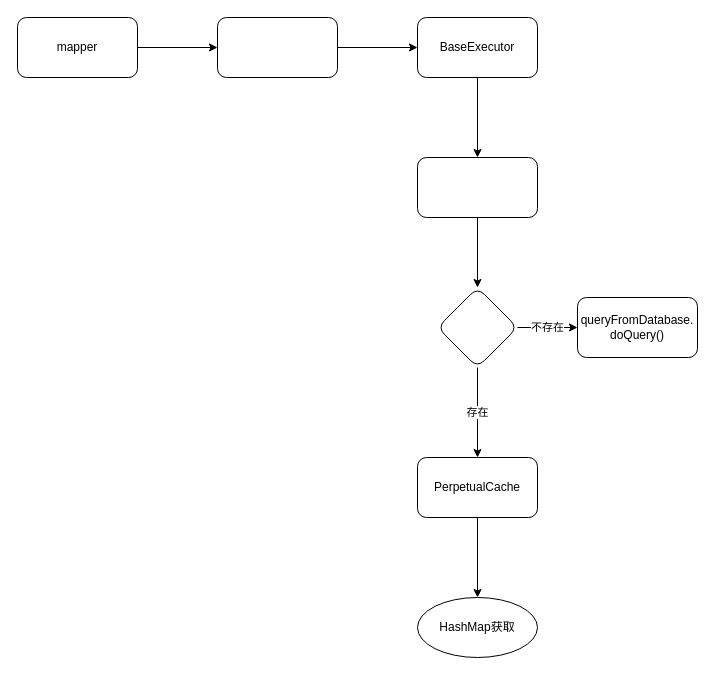
The diagram is 715 pixels wide and 675 high, and some of its shapes have lost their labels. The centre of each missing label's shape, as x and y in pixels:
query(): [477,187]
SqlSession: [277,47]
是否存在缓存: [477,327]
